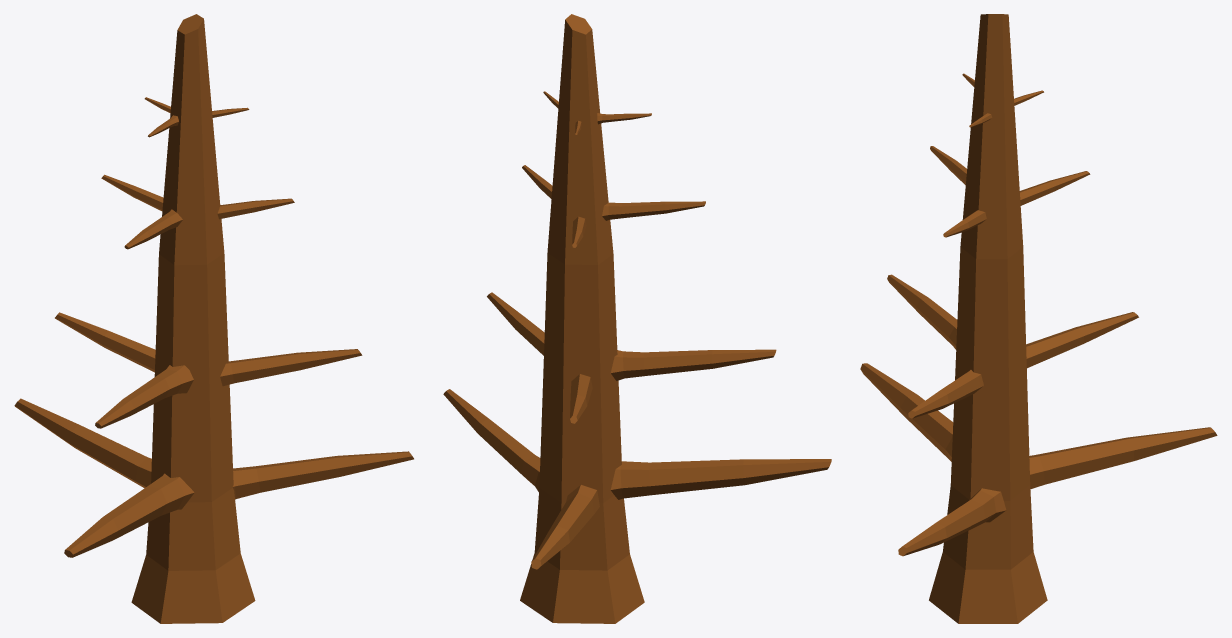
Rendered from SpruceDead.fbx.
The picture shows the model from 3 angles, left to right: view 1: azimuth 30°, elevation 25°; view 2: azimuth 150°, elevation 25°; view 3: azimuth 270°, elevation 25°; orthographic projection.
Parts seen in each view (by area): view 1: Spruce.001; view 2: Spruce.001; view 3: Spruce.001.
Part boxes in pixels (bbox=[...]): Spruce.001: bbox=[14, 14, 413, 623]; Spruce.001: bbox=[443, 14, 831, 623]; Spruce.001: bbox=[860, 14, 1217, 623].
Bounding box in the file's own units: 1.3 × 1.96 × 1.07.
